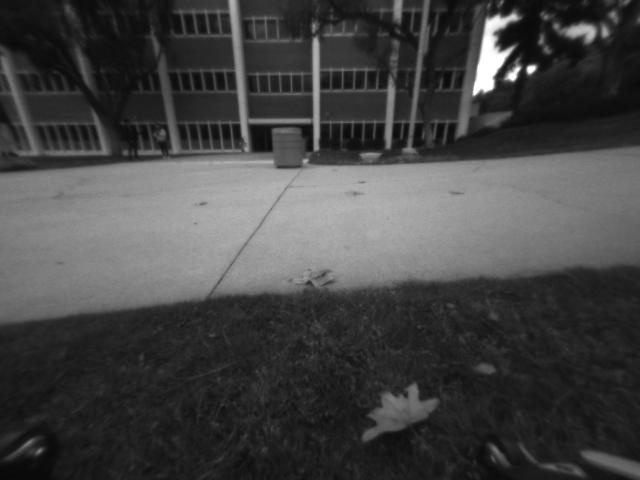trashcan: (276, 126, 303, 166)
